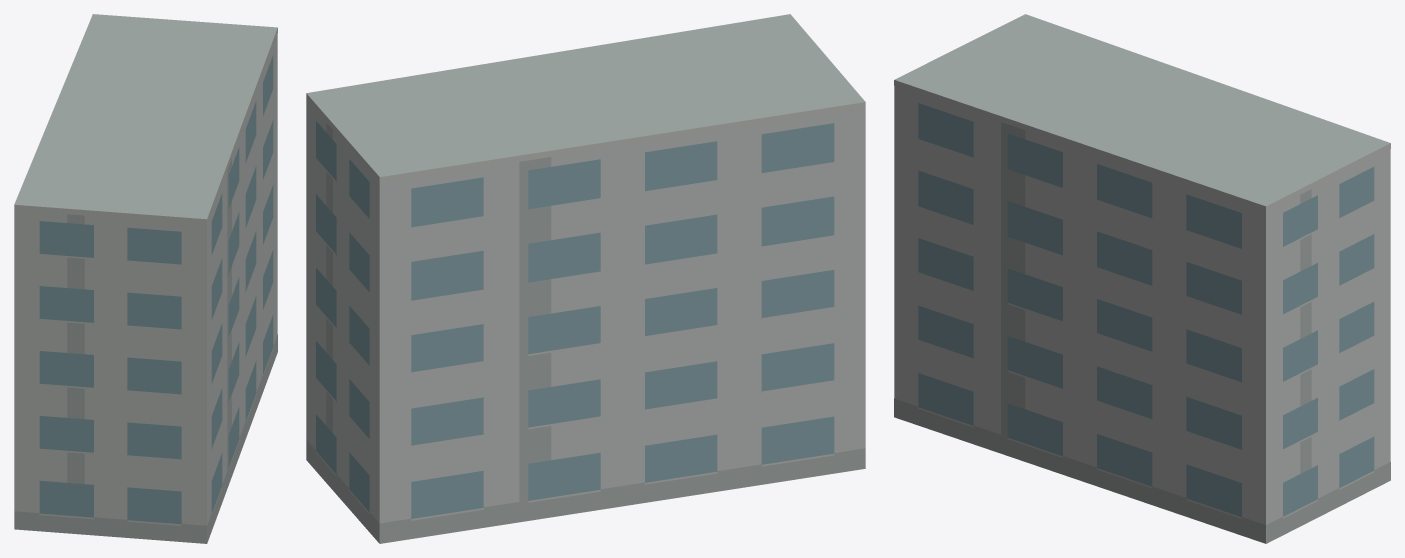
File: survey-upis-32892324.glb
3 renders of one model, left to right at view 1: azimuth 30°, elevation 25°; view 2: azimuth 150°, elevation 25°; view 3: azimuth 270°, elevation 25°, orthographic. The views are drawn at different scales.
Parts seen in each view (by area): view 1: survey-upis-32892324.tmp; view 2: survey-upis-32892324.tmp; view 3: survey-upis-32892324.tmp.
Boxes of the visible parts, <box> form: survey-upis-32892324.tmp: <box>14,14,277,543</box>; survey-upis-32892324.tmp: <box>306,14,865,543</box>; survey-upis-32892324.tmp: <box>894,14,1390,543</box>.
Size of the model in its own units: 17.43 by 14.25 by 19.01.
